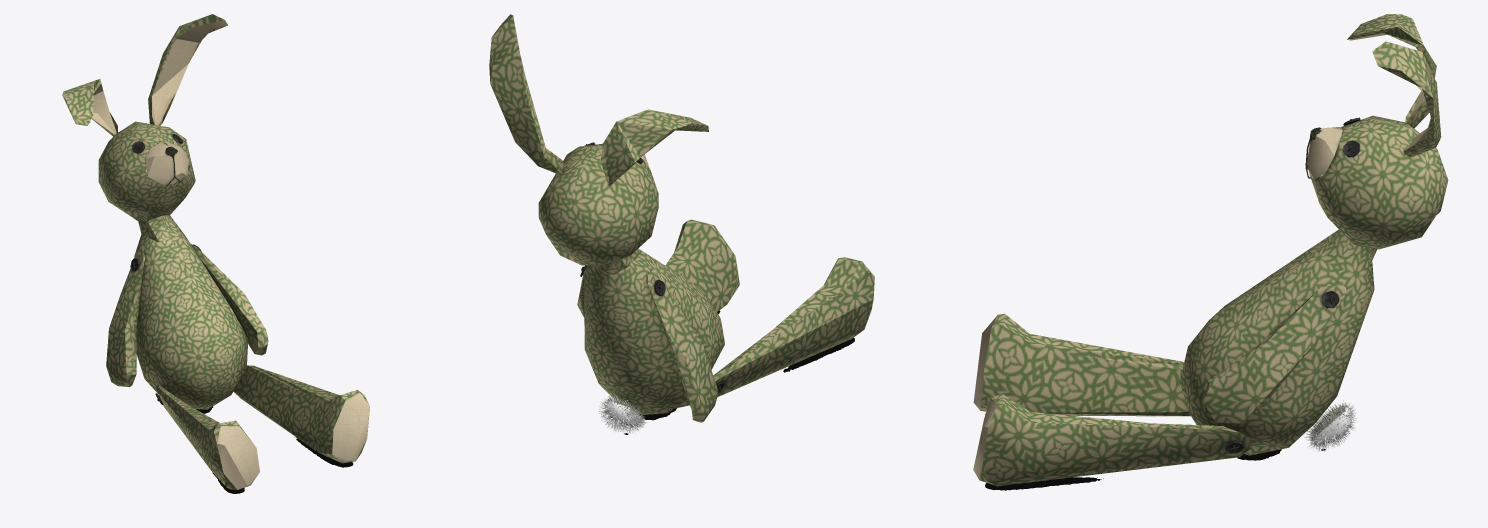
Rendered from raw_model.obj.
3 views of the same model, side by side, from view 1: azimuth 30°, elevation 25°; view 2: azimuth 150°, elevation 25°; view 3: azimuth 270°, elevation 25° (orthographic). The views are drawn at different scales.
Visible parts, largest first — view 1: solid_004, solid_005, shadow; view 2: solid_004, solid_002, shadow; view 3: solid_004, solid_005, solid_002, shadow, solid_003.
Boxes of the visible parts, bbox=[...] form: solid_004: bbox=[62, 14, 368, 489]; solid_005: bbox=[89, 19, 369, 489]; shadow: bbox=[196, 406, 353, 493]; solid_004: bbox=[489, 14, 874, 422]; solid_002: bbox=[597, 394, 647, 434]; shadow: bbox=[624, 310, 854, 434]; solid_004: bbox=[979, 14, 1448, 486]; solid_005: bbox=[973, 33, 1430, 479]; solid_002: bbox=[1304, 401, 1358, 452]; shadow: bbox=[985, 413, 1325, 490]; solid_003: bbox=[1225, 117, 1360, 453].
Size of the model in its own units: 0.2337 by 0.3874 by 0.4071.
1 material, 1 textured.
